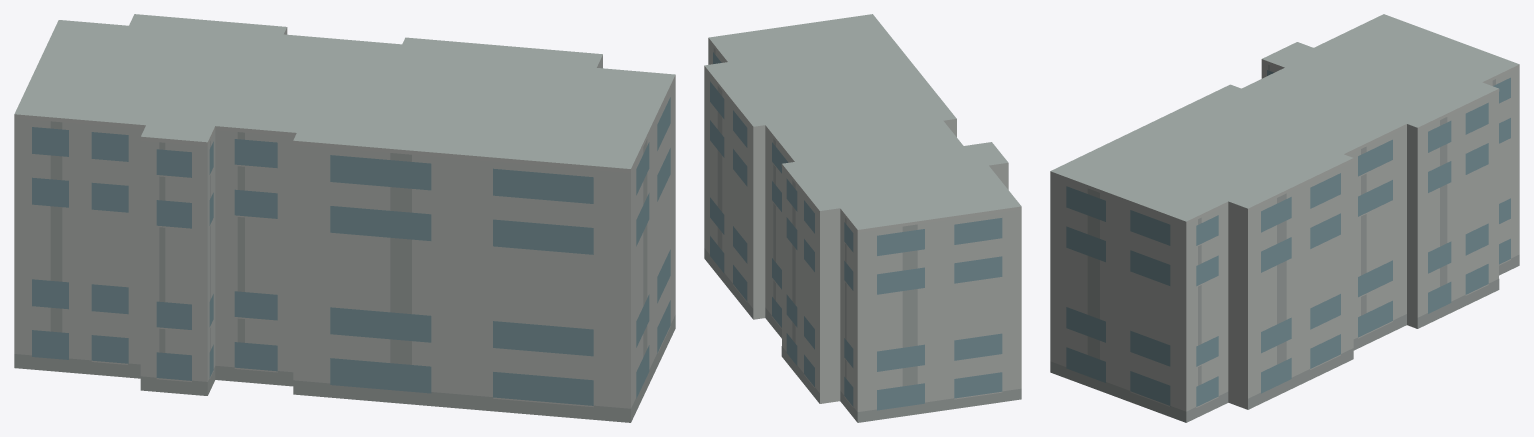
File: residential-ef5c0d82-b80f-4019-b408-34518ed4d922.glb
The picture shows the model from 3 angles, left to right: view 1: azimuth 30°, elevation 25°; view 2: azimuth 150°, elevation 25°; view 3: azimuth 270°, elevation 25°; orthographic projection. The views are drawn at different scales.
Parts seen in each view (by area): view 1: residential-ef5c0d82-b80f-4019-b408-34518ed4d922.tmp; view 2: residential-ef5c0d82-b80f-4019-b408-34518ed4d922.tmp; view 3: residential-ef5c0d82-b80f-4019-b408-34518ed4d922.tmp.
Part boxes in pixels (x1=…): residential-ef5c0d82-b80f-4019-b408-34518ed4d922.tmp: x1=14, y1=14, x2=675, y2=422; residential-ef5c0d82-b80f-4019-b408-34518ed4d922.tmp: x1=704, y1=14, x2=1021, y2=422; residential-ef5c0d82-b80f-4019-b408-34518ed4d922.tmp: x1=1050, y1=14, x2=1519, y2=422.
Size of the model in its own units: 33.75 by 15.25 by 32.25.
